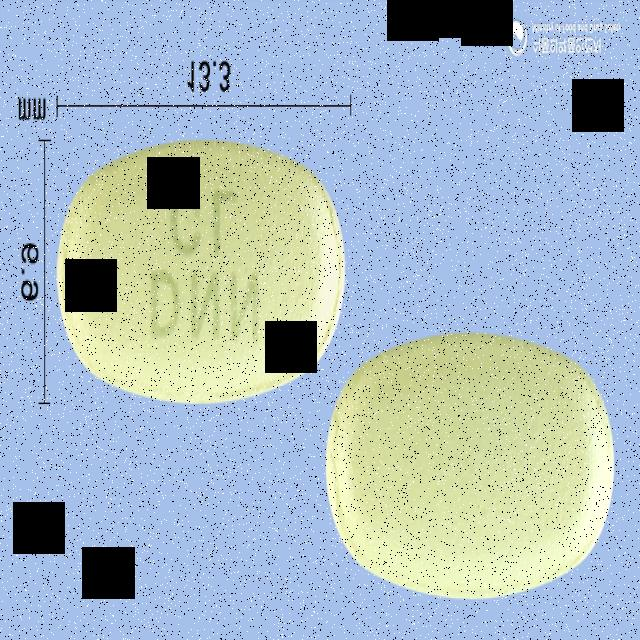Clcid: (54, 136, 348, 410), (326, 338, 616, 602)
